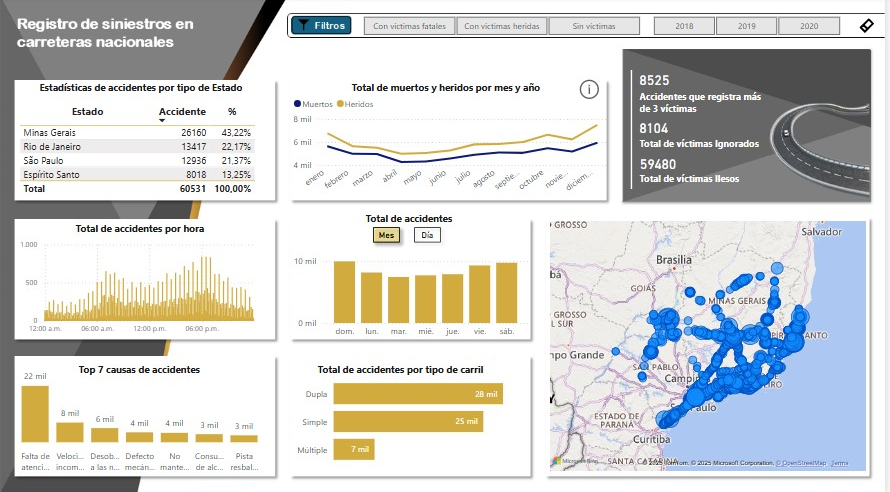

What the dashboard file says about the page in this screenshot:
{"tool":"powerbi","page":{"name":"Accidentes","canvas":[1280,720],"ordinal":0},"visuals":[{"type":"map","fields":{"Y":["registro_acidente.latitude"],"X":["registro_acidente.longitude"],"Size":["registro_acidente.total_accidentes"]},"box":[792.2,320,465.6,371.1],"z":0},{"type":"tableEx","title":"Estadísticas de accidentes por tipo de carril","fields":{"Values":["registro_acidente.Estado","registro_acidente.tipo_pista1","registro_acidente.tipo_pista"]},"box":[24.3,152.9,370,140],"z":1000},{"type":"lineChart","fields":{"Y":["CountNonNull(registro_acidente.Muertos)","Sum(registro_acidente.Heridos)"],"Category":["registro_acidente.Fecha.Variación.Jerarquía de fechas.Año","registro_acidente.Fecha.Variación.Jerarquía de fechas.Trimestre","registro_acidente.Fecha.Variación.Jerarquía de fechas.Mes"]},"box":[420,134.4,462.2,158.9],"z":2000},{"type":"card","title":"Evento","fields":{"Values":["Sum(registro_acidente.ignorados)"]},"box":[900,176.2,91.2,33.8],"z":3000},{"type":"shape","box":[895.6,105.6,38.9,172.2],"z":4000},{"type":"card","title":"Total heridos","fields":{"Values":["registro_acidente.AccidentesConMasDeTresVictimas"]},"box":[908.1,106.7,79,30],"z":5000},{"type":"card","title":"Total heridos","fields":{"Values":["Sum(registro_acidente.ilesos)"]},"box":[901.8,224.1,100,43.3],"z":6000},{"type":"textbox","box":[921.2,197.5,196.2,33.8],"z":7000},{"type":"textbox","box":[921.2,248.8,171.2,33.8],"z":8000},{"type":"textbox","box":[921.7,130,336.7,46.7],"z":9000},{"type":"clusteredColumnChart","fields":{"Category":["registro_acidente.hora"],"Y":["CountNonNull(registro_acidente.tipo_pista)"]},"box":[24.3,344.3,375.7,152.9],"z":10000},{"type":"slicer","fields":{"Values":["registro_acidente.Fecha.Variación.Jerarquía de fechas.Año"]},"box":[921.4,21.4,318.6,40],"z":11000},{"type":"slicer","fields":{"Values":["registro_acidente.clasificación_accidente"]},"box":[501.4,21.4,448.6,38.6],"z":12000},{"type":"columnChart","fields":{"Y":["registro_acidente.TotalAccidentes"],"Category":["registro_acidente.causa_accidente"]},"box":[1.4,522.9,398.6,171.4],"z":13000},{"type":"clusteredBarChart","fields":{"Y":["registro_acidente.total_evento"],"Category":["registro_acidente.tipo_pista"]},"box":[420,528.6,350,162.9],"z":14000},{"type":"actionButton","box":[1240,25.7,28.6,31.4],"z":15000},{"type":"textbox","box":[504.3,115.7,301.4,28.6],"z":16000},{"type":"textbox","box":[455.6,523.3,280,40],"z":17000},{"type":"textbox","box":[105.7,320,227.1,28.6],"z":18000},{"type":"textbox","box":[524.3,305.7,155.7,30],"z":19000},{"type":"textbox","box":[110,522.9,202.9,28.6],"z":20000},{"type":"textbox","box":[53.5,115.7,318.1,28.9],"z":21000},{"type":"columnChart","fields":{"Category":["registro_acidente.Nombre_dia Jerarquía.Nombre_dia"],"Y":["registro_acidente.total_accidentes"]},"box":[420,323.8,350,177.5],"z":23000},{"type":"actionButton","title":"Botón mes","box":[531.5,323.8,56.2,40],"z":24000},{"type":"actionButton","title":"Botón mes 1 presionar","box":[531.5,323.8,56.2,40],"z":25000},{"type":"actionButton","title":"Botón dia","box":[591.5,323.8,56.2,40],"z":26000},{"type":"actionButton","box":[834.3,114.3,55.7,38.6],"z":28000}]}

Visuals, with their boxes in screenshot pixels (x1, y1, x2, y2), scaled from the page's 1280x720 canvas onto the 890x492 screenshot:
map - registro_acidente.latitude x registro_acidente.longitude: 551,219,875,472
"Estadísticas de accidentes por tipo de carril" tableEx: 17,104,274,200
lineChart - CountNonNull(registro_acidente.Muertos) x Sum(registro_acidente.Heridos): 292,92,613,200
"Evento" card: 626,120,689,144
shape: 623,72,650,190
"Total heridos" card: 631,73,686,93
"Total heridos" card: 627,153,697,183
textbox: 641,135,777,158
textbox: 641,170,760,193
textbox: 641,89,875,121
clusteredColumnChart - registro_acidente.hora x CountNonNull(registro_acidente.tipo_pista): 17,235,278,340
slicer - registro_acidente.Fecha.Variación.Jerarquía de fechas.Año: 641,15,862,42
slicer - registro_acidente.clasificación_accidente: 349,15,661,41
columnChart - registro_acidente.TotalAccidentes x registro_acidente.causa_accidente: 1,357,278,474
clusteredBarChart - registro_acidente.total_evento x registro_acidente.tipo_pista: 292,361,535,473
actionButton: 862,18,882,39
textbox: 351,79,560,99
textbox: 317,358,511,385
textbox: 73,219,231,238
textbox: 365,209,473,229
textbox: 76,357,218,377
textbox: 37,79,258,99
columnChart - registro_acidente.Nombre_dia Jerarquía.Nombre_dia x registro_acidente.total_accidentes: 292,221,535,343
"Botón mes" actionButton: 370,221,409,249
"Botón mes 1 presionar" actionButton: 370,221,409,249
"Botón dia" actionButton: 411,221,450,249
actionButton: 580,78,619,104
